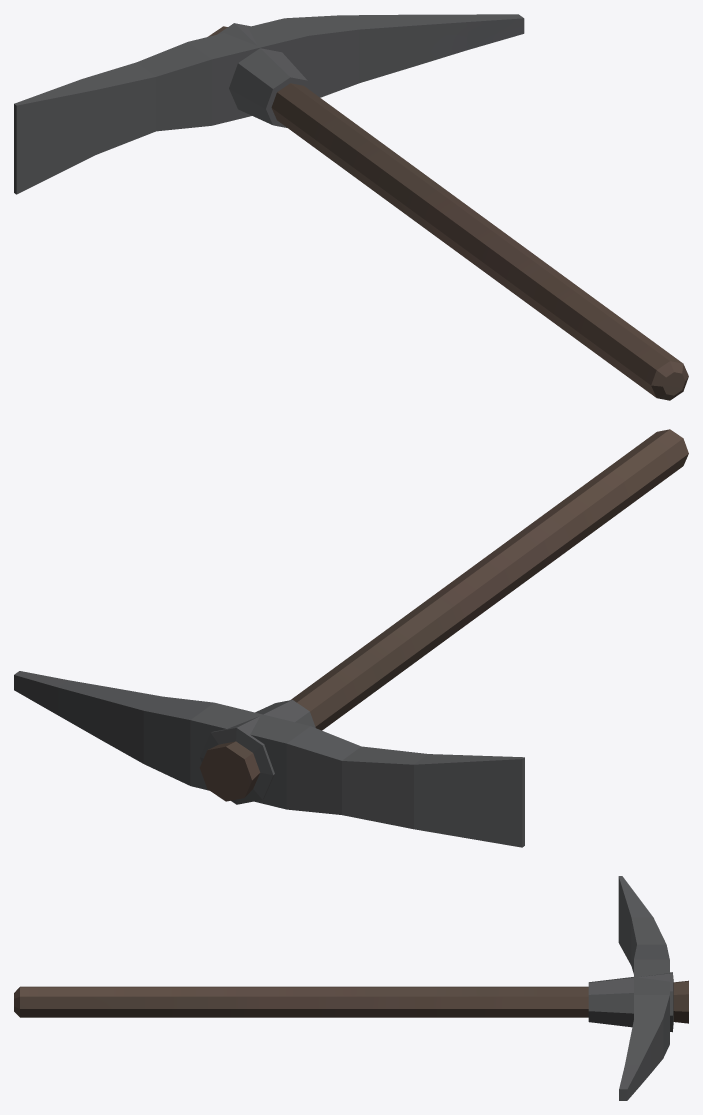
The model's file is scene_6jt4O6rTTe.glb.
3 renders of one model, top to bottom at view 1: azimuth 30°, elevation 25°; view 2: azimuth 150°, elevation 25°; view 3: azimuth 270°, elevation 25°, orthographic. The views are drawn at different scales.
Parts seen in each view (by area): view 1: Pickaxe; view 2: Pickaxe; view 3: Pickaxe.
Part boxes in pixels (box(x1,y1,x2,y2)): Pickaxe: box(14, 14, 688, 400); Pickaxe: box(14, 429, 688, 847); Pickaxe: box(14, 876, 688, 1100).
Bounding box in the file's own units: 1.27 × 0.212 × 1.94.
Materials: 1 (1 with a texture image).
